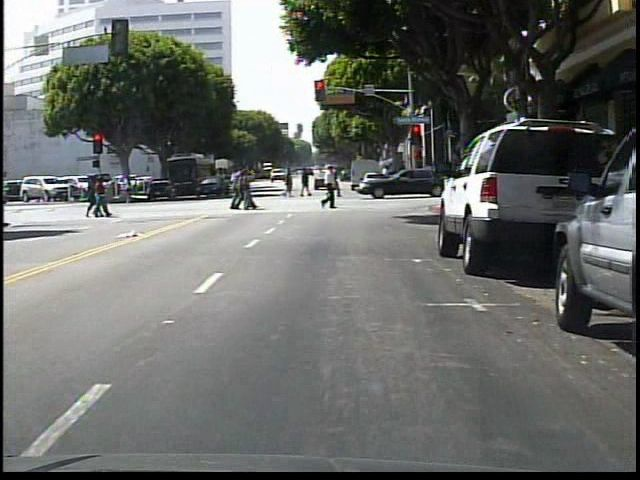person: (318, 160, 342, 212), (119, 174, 138, 207), (326, 167, 345, 196)
